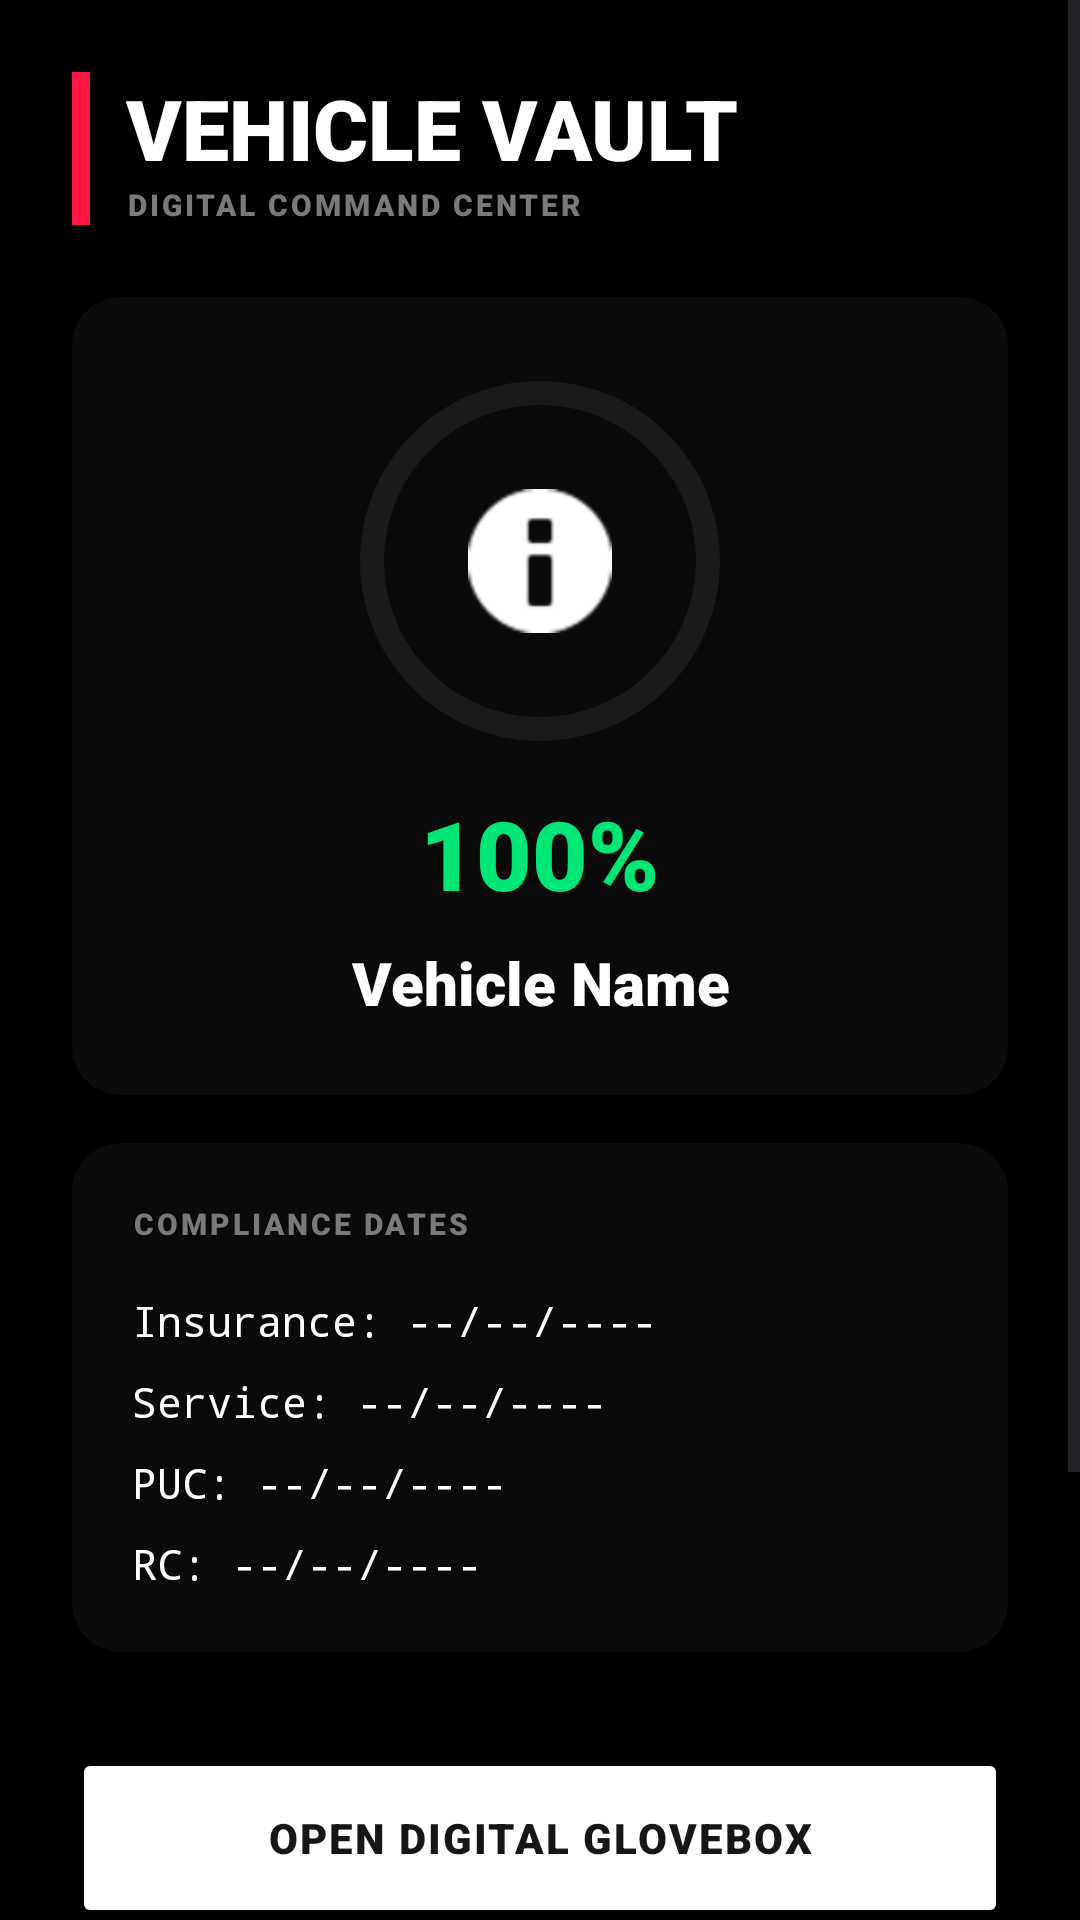

Where to tap for icons on this 1080 × 1920 app screen, as point (x, y):
info: point (540, 561)
